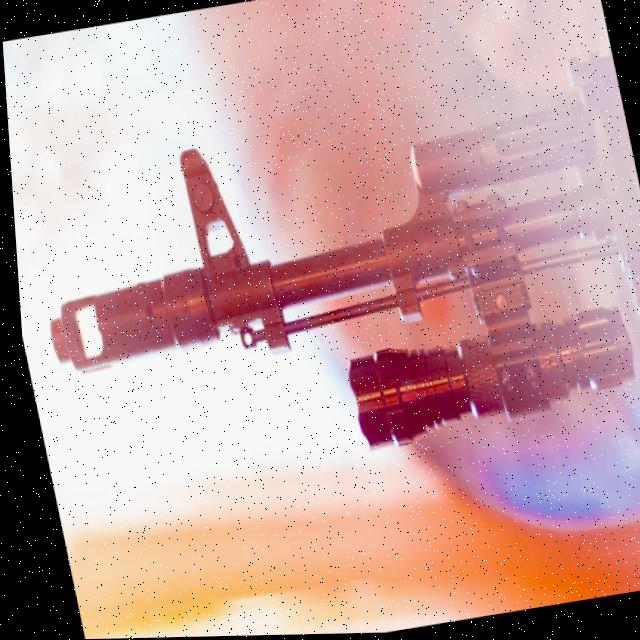firearm: (3, 44, 640, 502)
